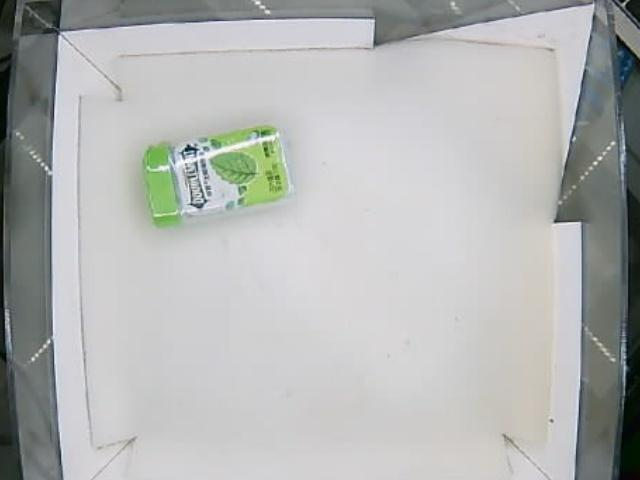Bottle: (144, 127, 294, 228)
